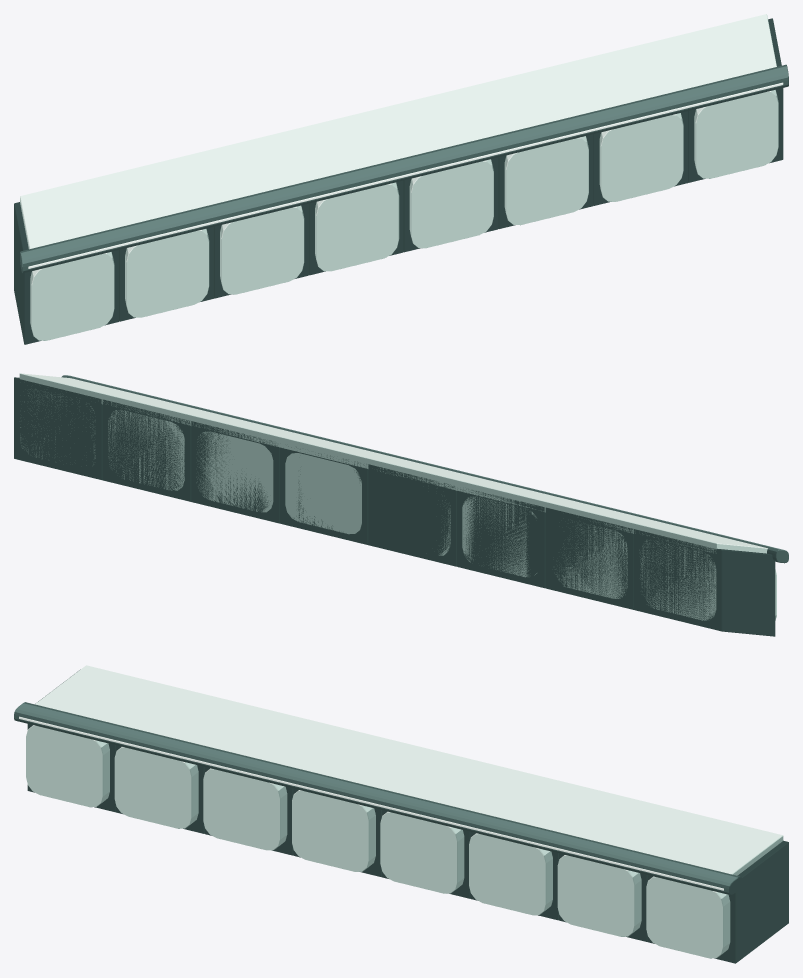
Rendered from Terrain_TopRun8LR.gltf.
3 views of the same model, one above another, from view 1: azimuth 30°, elevation 25°; view 2: azimuth 150°, elevation 25°; view 3: azimuth 330°, elevation 25° (orthographic). The views are drawn at different scales.
Visible parts, largest first — view 1: Terrain_TopRun8LR_baked; view 2: Terrain_TopRun8LR_baked; view 3: Terrain_TopRun8LR_baked.
Boxes of the visible parts, bbox=[...] form: Terrain_TopRun8LR_baked: bbox=[14, 14, 788, 344]; Terrain_TopRun8LR_baked: bbox=[14, 373, 788, 636]; Terrain_TopRun8LR_baked: bbox=[14, 665, 788, 963].
Size of the model in its own units: 8.33 by 1.18 by 0.74.
